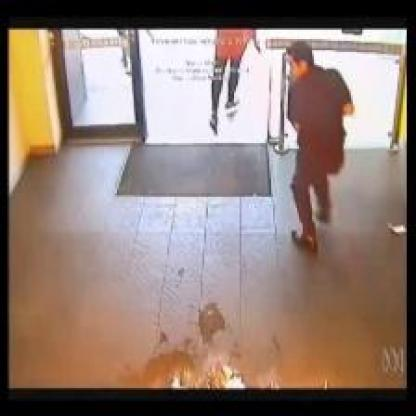fire: (158, 355, 280, 390)
